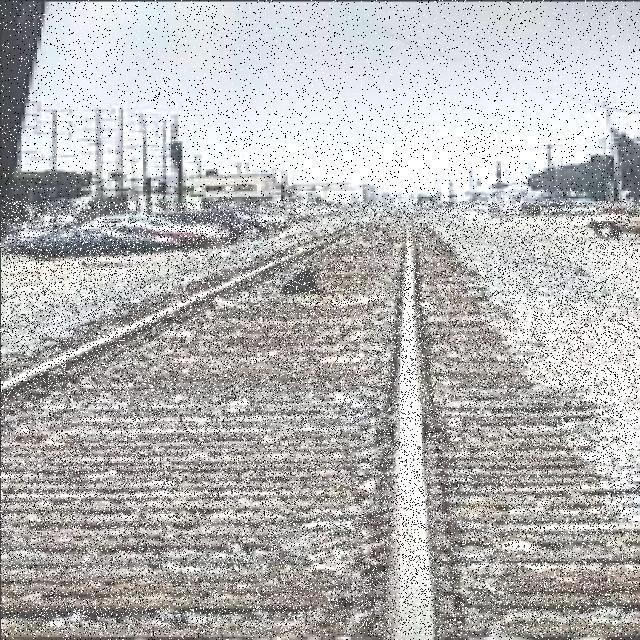danger: (265, 262, 340, 306)
rail: (1, 201, 638, 635)
